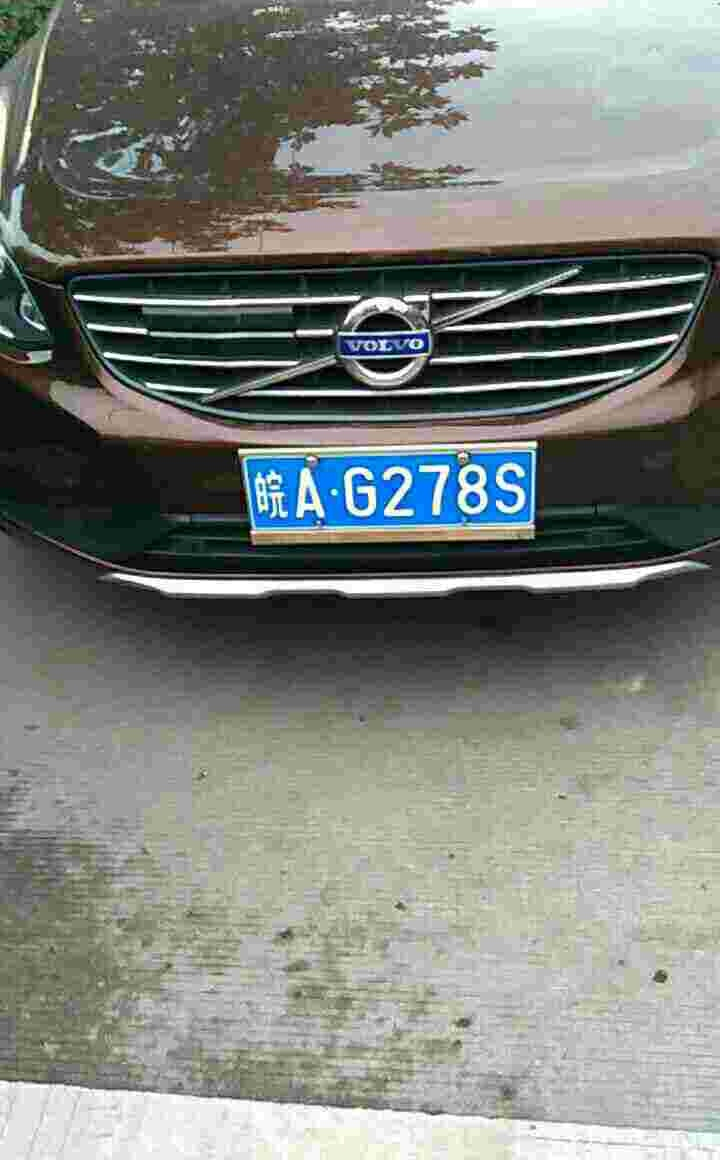plate: (247, 448, 542, 535)
